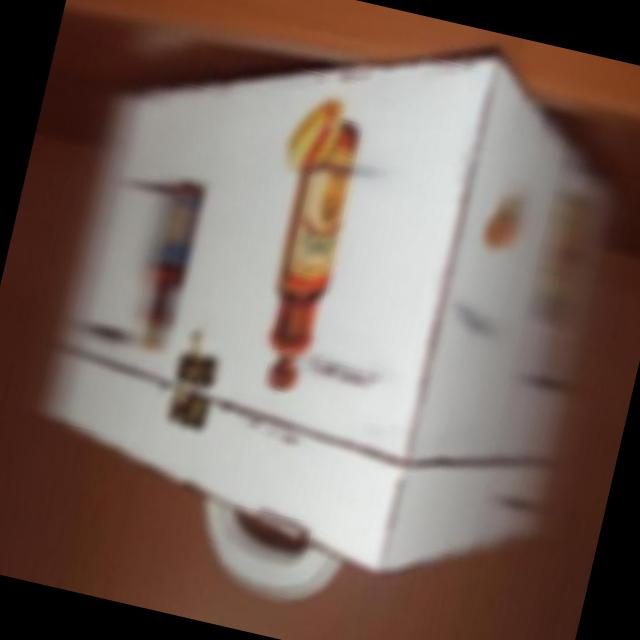box: (6, 0, 635, 630)
